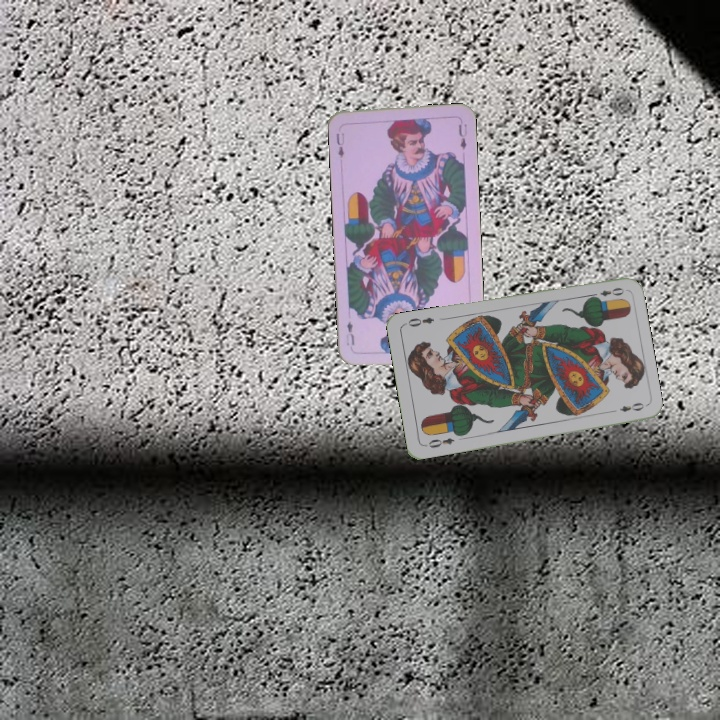EO: (587, 283, 626, 302), (421, 434, 457, 451)
EU: (333, 129, 347, 160)
